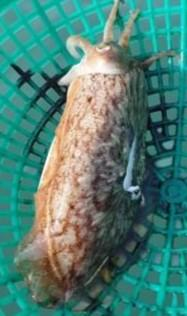Cephalopod: (14, 0, 176, 307)
